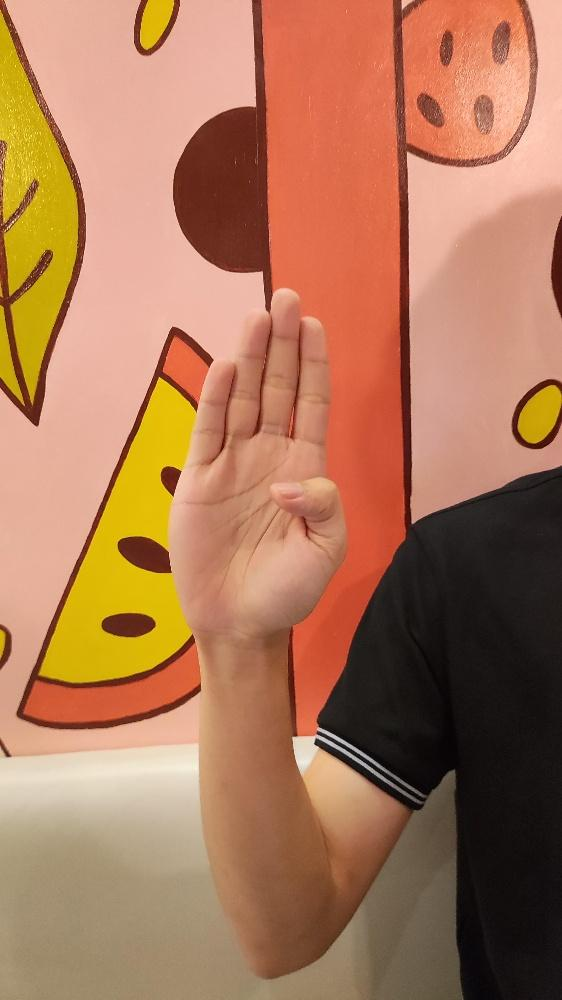b: (164, 284, 350, 642)
